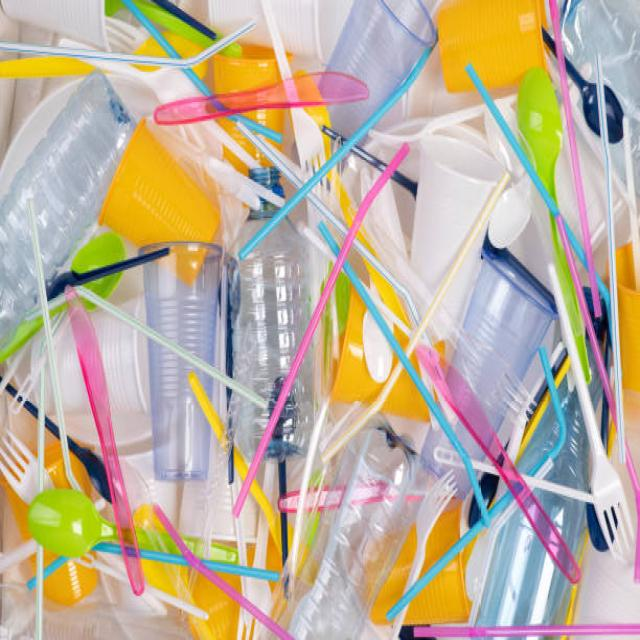plastic: (2, 34, 613, 630)
